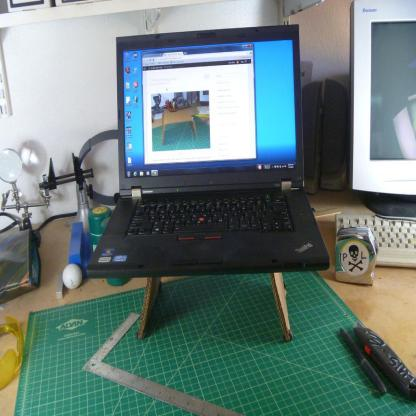board: (86, 22, 328, 278)
